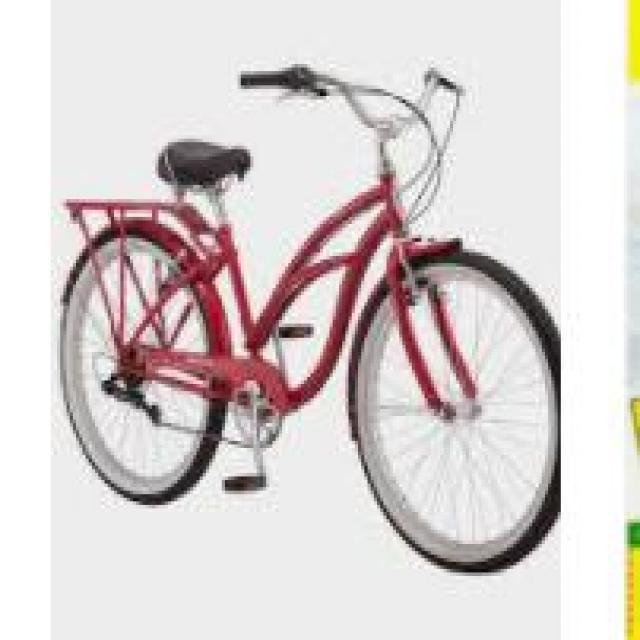bicycle: (58, 65, 562, 538)
